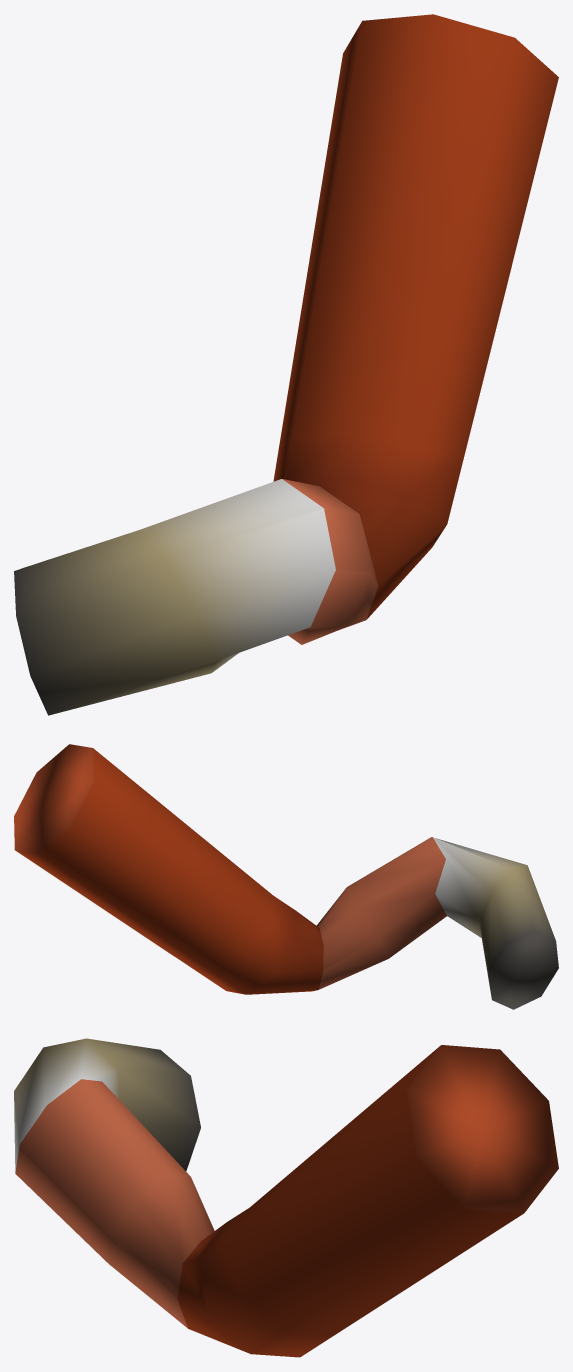
The model's file is CigarreteEnd_Type2.fbx.
3 views of the same model, one above another, from view 1: azimuth 30°, elevation 25°; view 2: azimuth 150°, elevation 25°; view 3: azimuth 270°, elevation 25° (orthographic). The views are drawn at different scales.
Parts seen in each view (by area): view 1: CigarreteEnd_Type2; view 2: CigarreteEnd_Type2; view 3: CigarreteEnd_Type2.
Boxes of the visible parts, left/top/right/bottom form: CigarreteEnd_Type2: left=14, top=14, right=558, bottom=715; CigarreteEnd_Type2: left=14, top=744, right=558, bottom=1009; CigarreteEnd_Type2: left=14, top=1038, right=558, bottom=1357.
Bounding box in the file's own units: 21.58 × 13.06 × 16.69.
